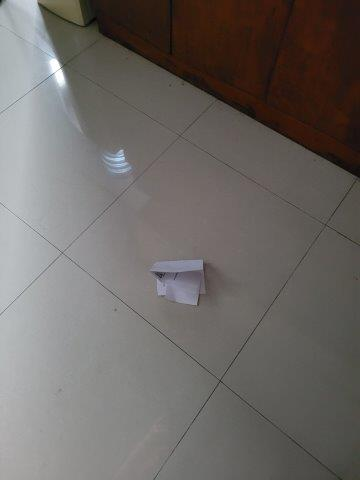kertas: (152, 261, 207, 308)
